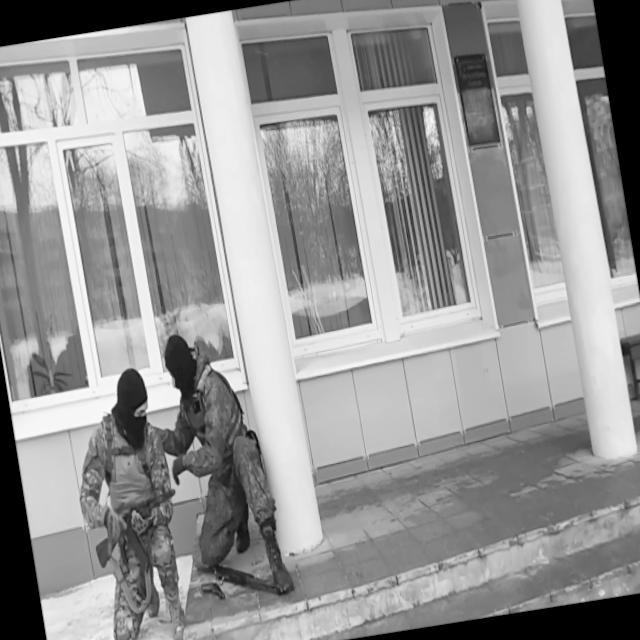gun: (87, 485, 188, 582), (194, 543, 290, 610), (199, 576, 227, 606)
person with a gun: (138, 321, 296, 613), (59, 365, 200, 640)
